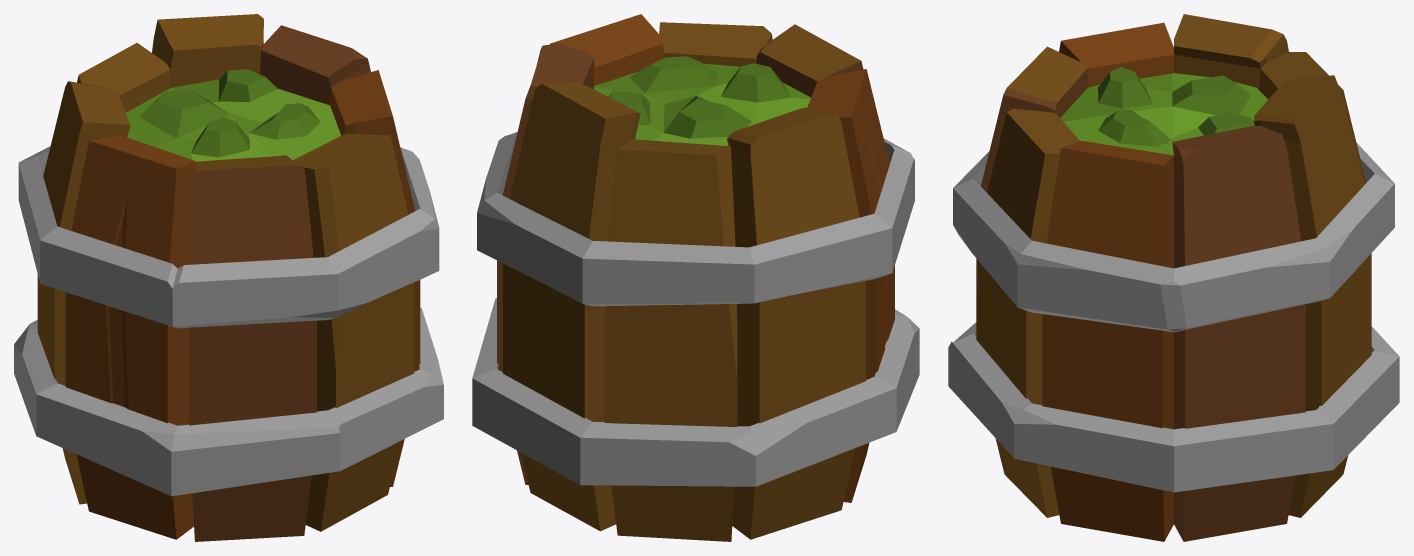
File: BarrelFull.fbx
3 views of the same model, side by side, from view 1: azimuth 30°, elevation 25°; view 2: azimuth 150°, elevation 25°; view 3: azimuth 270°, elevation 25° (orthographic). The views are drawn at different scales.
Parts seen in each view (by area): view 1: WoddenPart, MetalPart, Plane; view 2: WoddenPart, MetalPart, Plane; view 3: WoddenPart, MetalPart, Plane.
Boxes of the visible parts, <box> form: WoddenPart: <box>37,14,420,541</box>; MetalPart: <box>14,146,443,496</box>; Plane: <box>125,69,340,161</box>; WoddenPart: <box>497,14,894,541</box>; MetalPart: <box>472,132,919,486</box>; Plane: <box>594,56,810,145</box>; WoddenPart: <box>976,14,1371,541</box>; MetalPart: <box>948,142,1399,492</box>; Plane: <box>1060,67,1268,155</box>.
Size of the model in its own units: 96.13 by 93.75 by 96.13.
